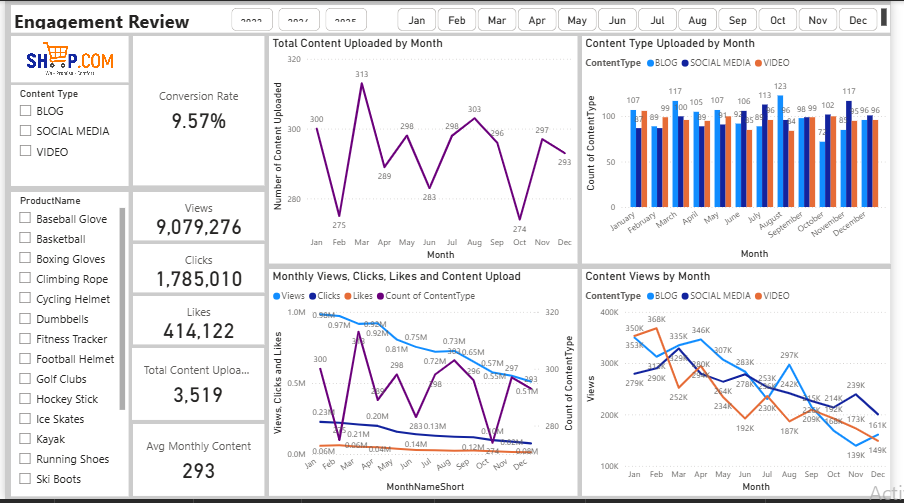

Layout of this report page (visuals, bound fields, positions):
{"tool":"powerbi","page":{"name":"Engagement Review","canvas":[1280,720],"ordinal":4},"visuals":[{"type":"lineChart","title":"Content Views by Month","fields":{"Category":["Calendar.MonthNameShort"],"Y":["_Calculations.Views"],"Series":["fact_engagement_data.ContentType"]},"box":[834.3,387.1,445.7,328],"z":0},{"type":"textbox","box":[8.7,5.9,1271.3,39.8],"z":1000},{"type":"advancedSlicerVisual","fields":{"Values":["Calendar.Year"]},"box":[322.6,10.3,202.6,38.7],"z":2000},{"type":"advancedSlicerVisual","fields":{"Values":["Calendar.MonthNameShort"]},"box":[563,9.7,709.8,39],"z":3000},{"type":"clusteredColumnChart","title":"Content Type Uploaded by Month","fields":{"Category":["fact_engagement_data.EngagementMonth"],"Series":["fact_engagement_data.ContentType"],"Y":["CountNonNull(fact_engagement_data.ContentType)"]},"box":[834.3,50,445.7,328.6],"z":4000},{"type":"lineChart","title":"Monthly Views, Clicks, Likes and Content Upload ","fields":{"Category":["Calendar.MonthNameShort"],"Y":["_Calculations.Views","_Calculations.Clicks","_Calculations.Likes"],"Y2":["CountNonNull(fact_engagement_data.ContentType)"]},"box":[381.4,387.1,445.7,328],"z":5000},{"type":"lineChart","title":"Total Content Uploaded by Month","fields":{"Category":["Calendar.MonthNameShort"],"Y":["CountNonNull(fact_engagement_data.ContentType)"]},"box":[381.4,50,445.7,328.6],"z":6000},{"type":"actionButton","box":[8.6,50,170,67.1],"z":7000},{"type":"slicer","fields":{"Values":["dim_products.ProductName"]},"box":[8.6,275.7,170,440],"z":8000},{"type":"slicer","fields":{"Values":["fact_engagement_data.ContentType"]},"box":[8.6,121.4,170,145.7],"z":9000},{"type":"cardVisual","fields":{"Data":["_Calculations.Conversion Rate"]},"box":[185.7,50,190,215.7],"z":10000},{"type":"cardVisual","fields":{"Data":["_Calculations.Views"]},"box":[185.7,275.7,190,70],"z":11000},{"type":"cardVisual","fields":{"Data":["_Calculations.Clicks"]},"box":[185.7,351.4,190,70],"z":12000},{"type":"cardVisual","fields":{"Data":["_Calculations.Likes"]},"box":[185.7,427.1,190,70],"z":13000},{"type":"cardVisual","fields":{"Data":["CountNonNull(fact_engagement_data.ContentID)"]},"box":[184.3,501.4,191.4,104.3],"z":14000},{"type":"cardVisual","fields":{"Data":["_Calculations.Average Monthly Content"]},"box":[185.7,611.4,190,104.3],"z":15000}]}

Visuals, with their boxes in screenshot pixels (x1, y1, x2, y2), scaled from the page's 1280x720 canvas onto the 904x503 screenshot:
"Content Views by Month" lineChart: (589,270,903,500)
textbox: (6,4,903,32)
advancedSlicerVisual - Calendar.Year: (228,7,371,34)
advancedSlicerVisual - Calendar.MonthNameShort: (398,7,899,34)
"Content Type Uploaded by Month" clusteredColumnChart: (589,35,903,264)
"Monthly Views, Clicks, Likes and Content Upload " lineChart: (269,270,584,500)
"Total Content Uploaded by Month" lineChart: (269,35,584,264)
actionButton: (6,35,126,82)
slicer - dim_products.ProductName: (6,193,126,500)
slicer - fact_engagement_data.ContentType: (6,85,126,187)
cardVisual - _Calculations.Conversion Rate: (131,35,265,186)
cardVisual - _Calculations.Views: (131,193,265,242)
cardVisual - _Calculations.Clicks: (131,245,265,294)
cardVisual - _Calculations.Likes: (131,298,265,347)
cardVisual - CountNonNull(fact_engagement_data.ContentID): (130,350,265,423)
cardVisual - _Calculations.Average Monthly Content: (131,427,265,500)
